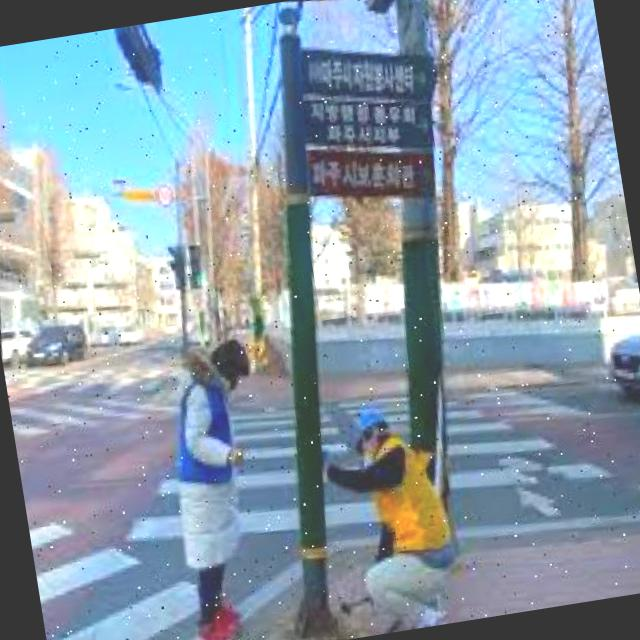Person: (137, 326, 298, 640), (293, 391, 481, 640)
